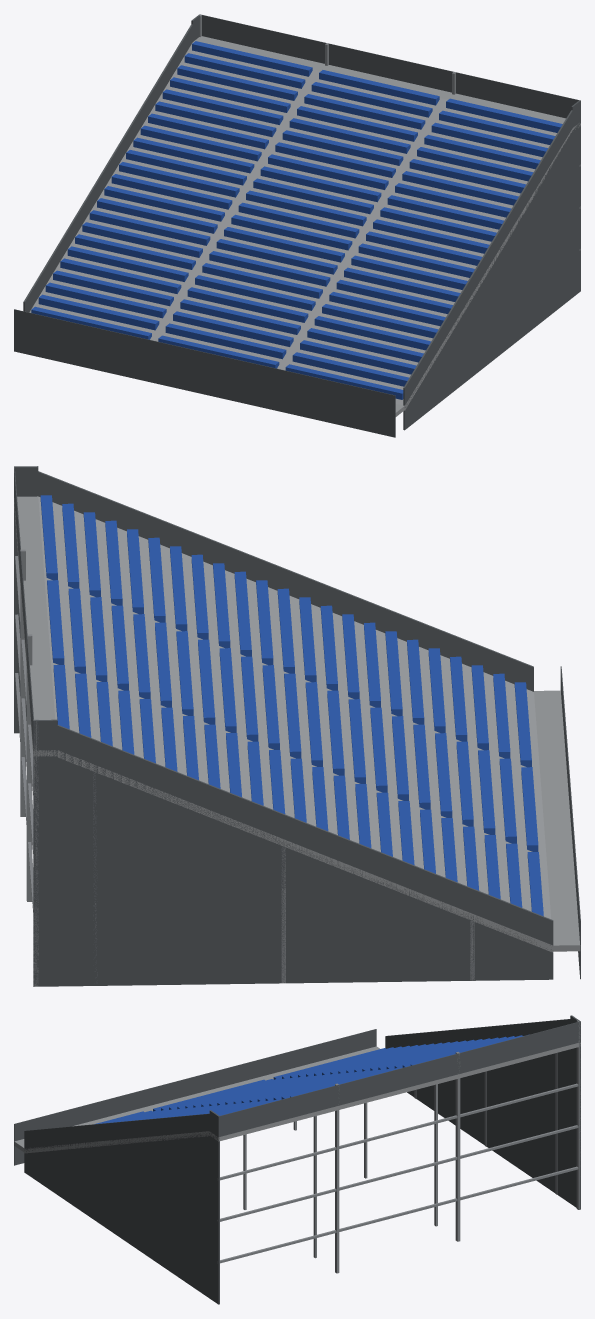
The model's file is spa_stand_gold4a.glb.
3 views of the same model, one above another, from view 1: azimuth 30°, elevation 25°; view 2: azimuth 150°, elevation 25°; view 3: azimuth 270°, elevation 25° (orthographic). The views are drawn at different scales.
Parts seen in each view (by area): view 1: spa-gold4a; view 2: spa-gold4a; view 3: spa-gold4a.
Part boxes in pixels (bbox=[...]): spa-gold4a: bbox=[14, 14, 580, 437]; spa-gold4a: bbox=[14, 466, 580, 986]; spa-gold4a: bbox=[14, 1015, 580, 1304].
Bounding box in the file's own units: 29.07 × 10.88 × 29.73.
